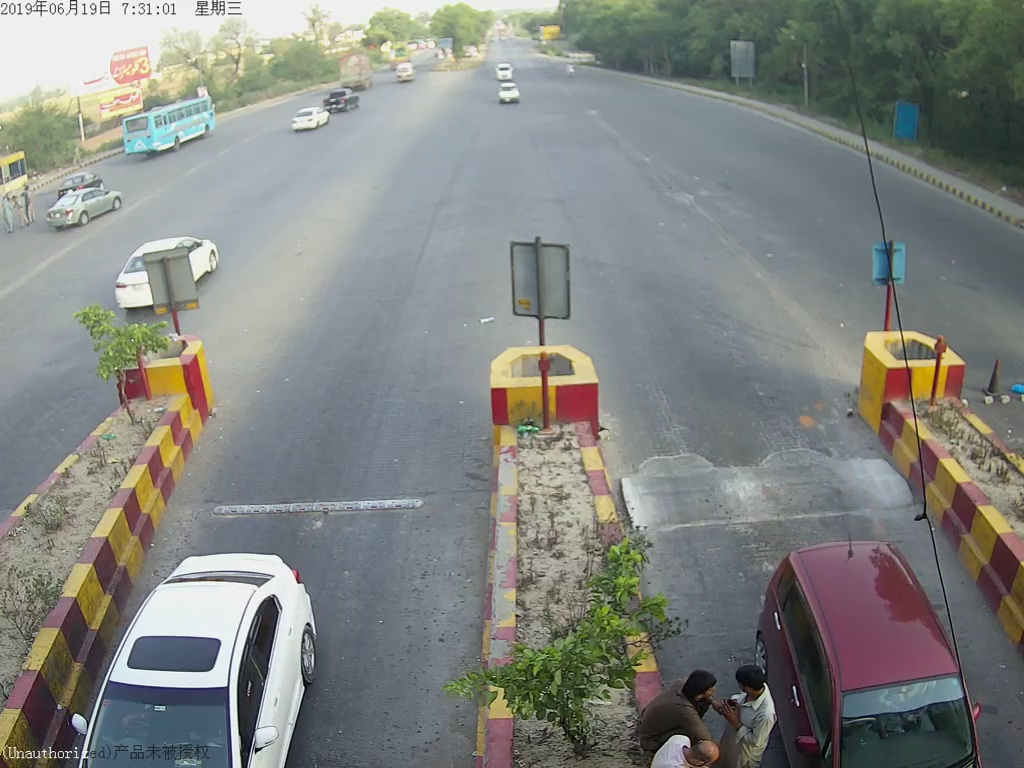Cat-1: (490, 81, 529, 112)
